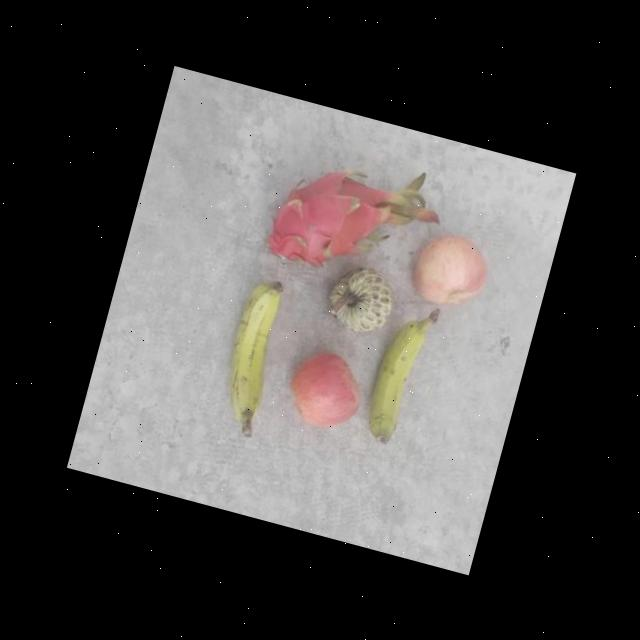Sakya fruit: (318, 259, 398, 341)
apple: (278, 342, 368, 436), (404, 228, 494, 320)
banana: (210, 274, 298, 424), (353, 311, 434, 454)
pitaya: (256, 154, 390, 284)
